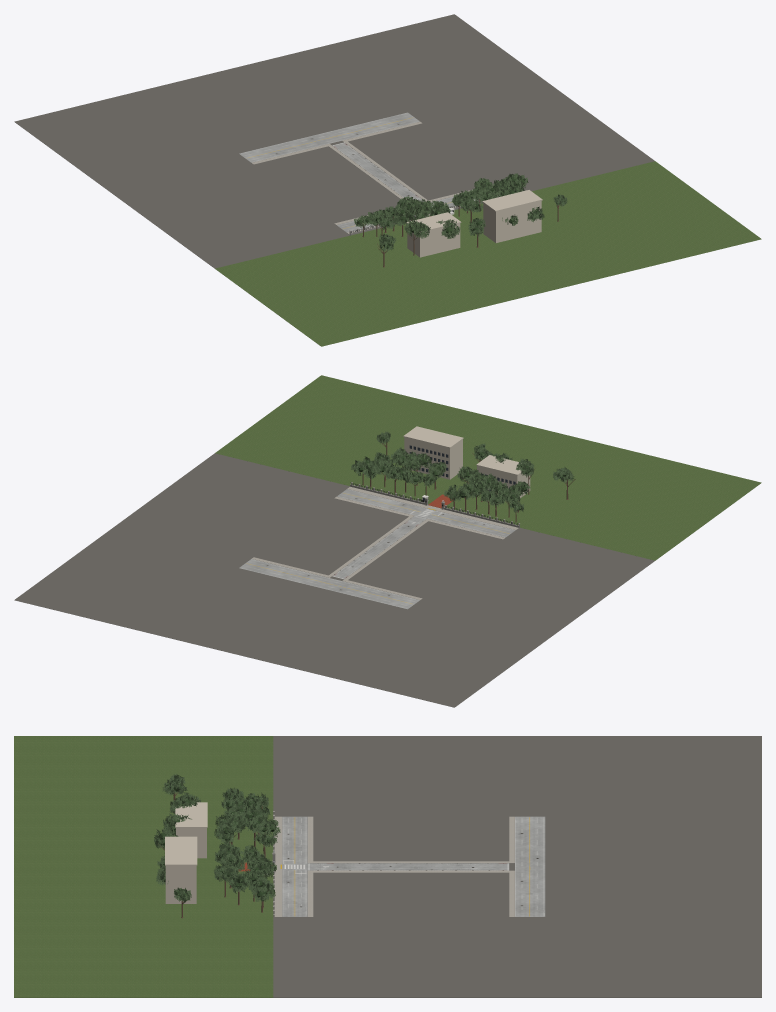
The model's file is lane118_ground.glb.
3 renders of one model, top to bottom at view 1: azimuth 30°, elevation 25°; view 2: azimuth 150°, elevation 25°; view 3: azimuth 270°, elevation 25°, orthographic. The views are drawn at different scales.
Parts seen in each view (by area): view 1: l118_far_ground, l118_campus_grass, l118_tree_cards, l118_far_halls, l118_road_heping, l118_sidewalks, l118_road_lane, l118_tree_core; view 2: l118_far_ground, l118_campus_grass, l118_tree_cards, l118_far_halls, l118_road_heping, l118_sidewalks, l118_road_xinhai, l118_road_lane, l118_tree_core; view 3: l118_far_ground, l118_campus_grass, l118_tree_cards, l118_far_halls, l118_road_heping, l118_sidewalks, l118_road_xinhai, l118_road_lane, l118_tree_core.
Part boxes in pixels (box(x1,y1,x2,y2)): l118_far_ground: box(14, 14, 654, 268); l118_campus_grass: box(215, 161, 761, 346); l118_tree_cards: box(354, 173, 567, 252); l118_far_halls: box(406, 190, 542, 257); l118_road_heping: box(239, 112, 419, 162); l118_sidewalks: box(252, 121, 498, 234); l118_road_lane: box(332, 142, 424, 201); l118_tree_core: box(358, 177, 565, 248); l118_far_ground: box(14, 453, 654, 707); l118_campus_grass: box(215, 375, 761, 560); l118_tree_cards: box(351, 431, 574, 512); l118_far_halls: box(403, 426, 530, 497); l118_road_heping: box(239, 559, 419, 609); l118_sidewalks: box(252, 486, 518, 599); l118_road_xinhai: box(337, 489, 515, 537); l118_road_lane: box(332, 516, 426, 579); l118_tree_core: box(357, 435, 569, 510); l118_far_ground: box(273, 736, 761, 997); l118_campus_grass: box(14, 736, 273, 997); l118_tree_cards: box(154, 773, 280, 902); l118_far_halls: box(165, 802, 207, 903); l118_road_heping: box(515, 816, 545, 916); l118_sidewalks: box(274, 816, 514, 916); l118_road_xinhai: box(282, 816, 307, 916); l118_road_lane: box(307, 863, 509, 870); l118_tree_core: box(159, 778, 276, 897).
Size of the model in its own units: 240 by 17.78 by 290.
Materials: 21 (9 with a texture image).
